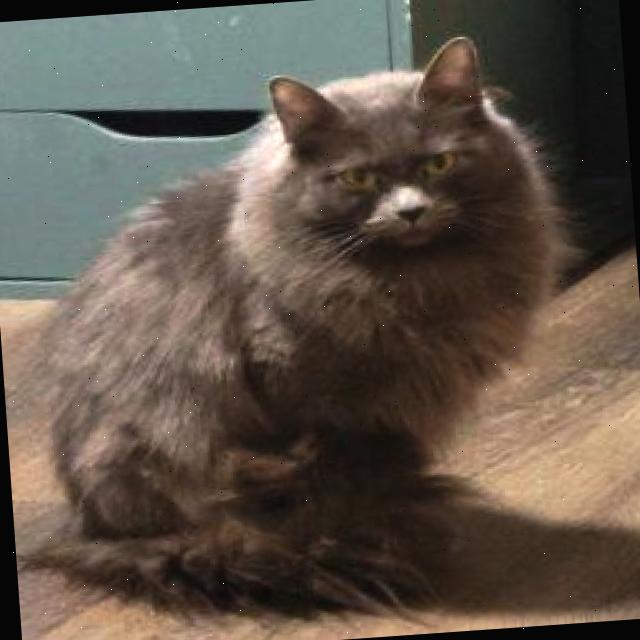domestic_long_hair_cat: (238, 25, 582, 302)
